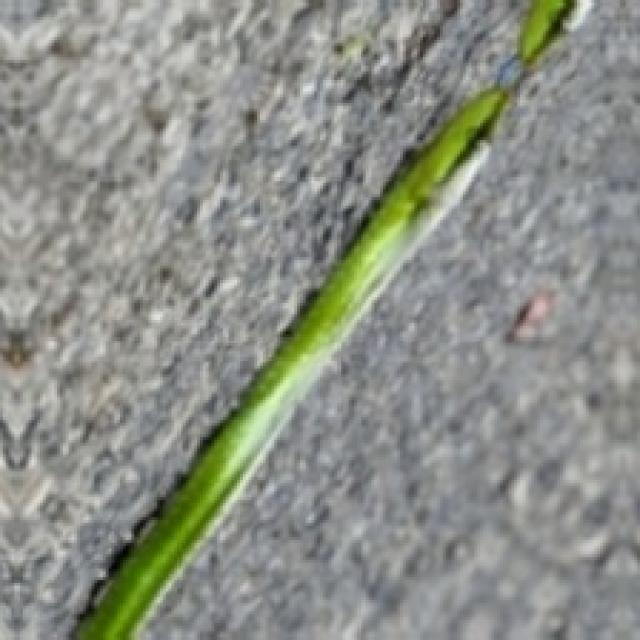red-tailed green ratsnake: (76, 88, 508, 639), (518, 0, 569, 66)
